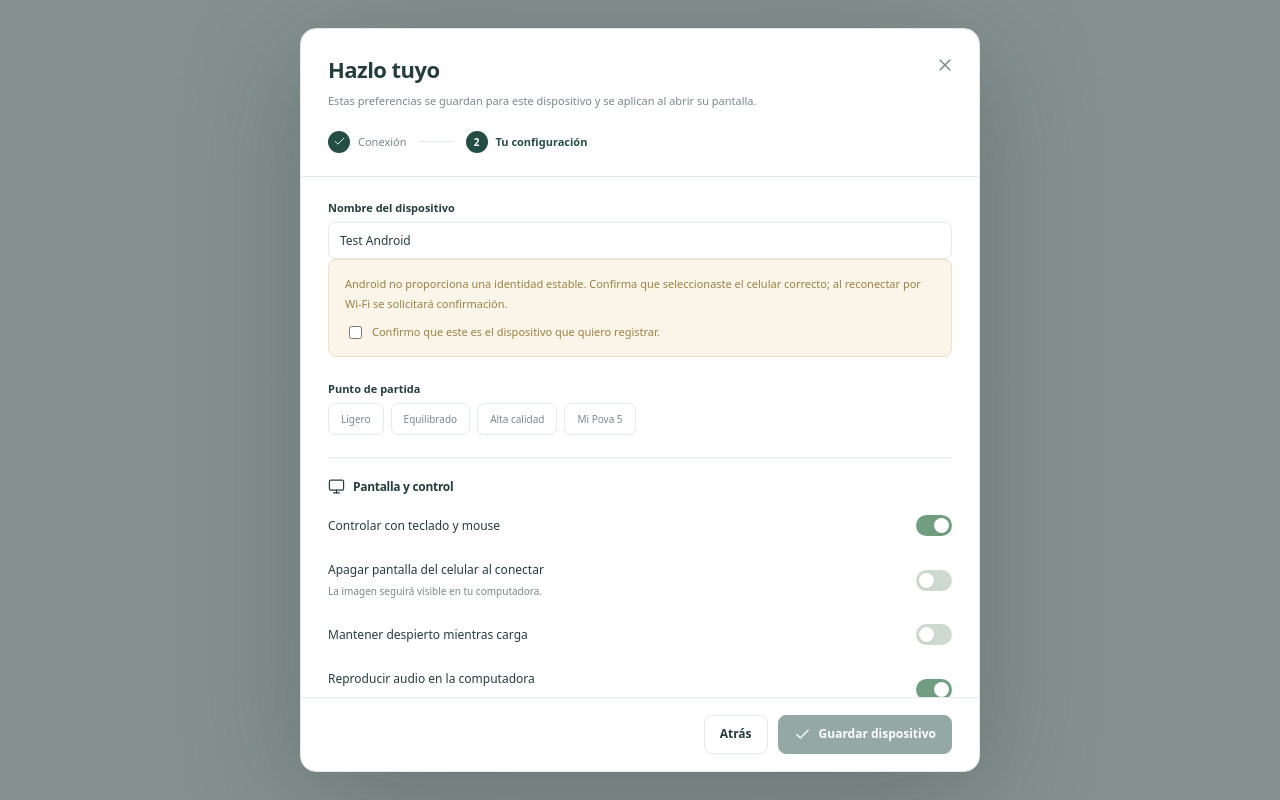
Scenario: registration wizard › requires explicit confirmation when Android has no stable identity
Expected: the button "Guardar dispositivo" is disabled, [778,715,952,754]
Click the checkbox labelled "Confirmo que este es el dispositivo que quiero registrar.".
click(356, 332)  # box [349,326,362,339]
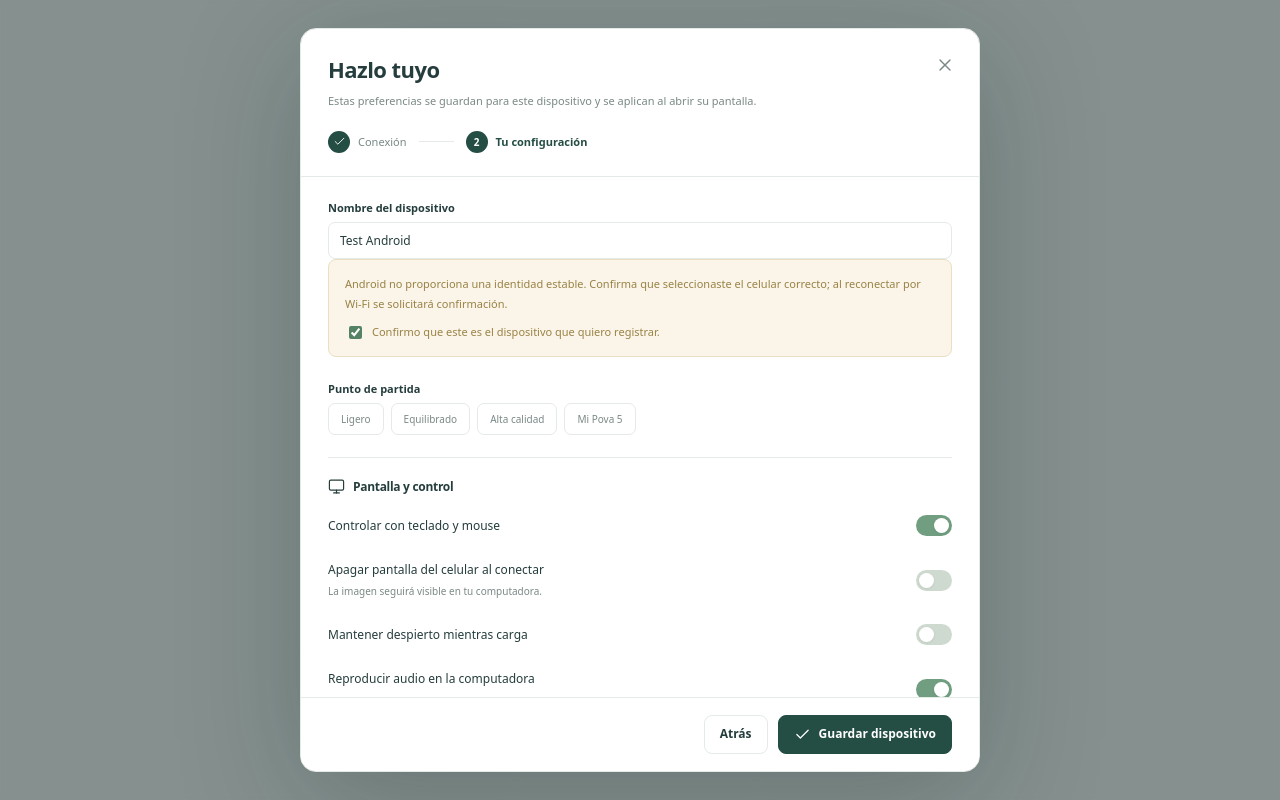
Expected: the button "Guardar dispositivo" is enabled, [778,715,952,754]
